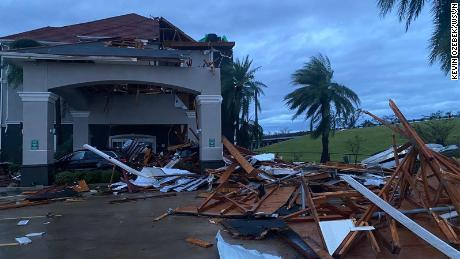major: (0, 0, 237, 186)
